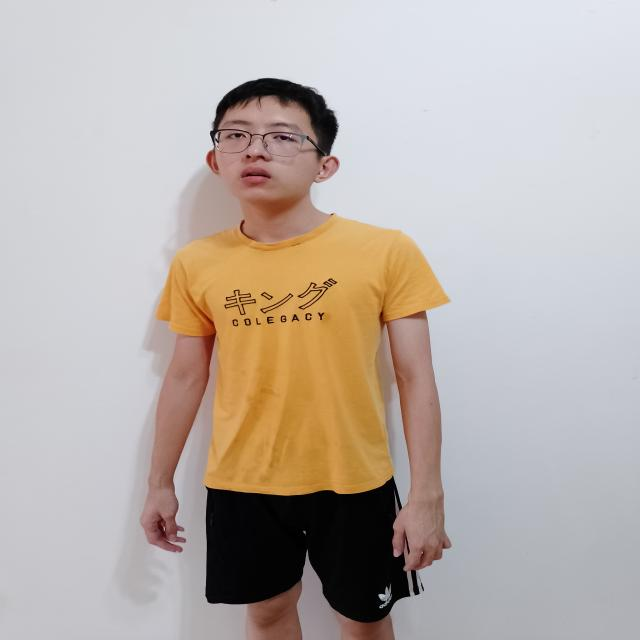person_without_labcoat: (141, 79, 450, 640)
